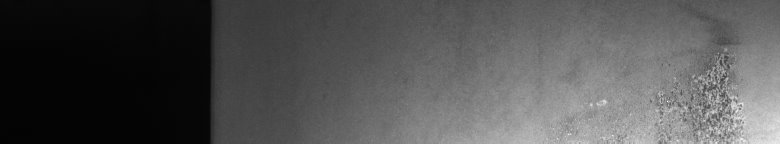hc: (582, 38, 744, 136)
